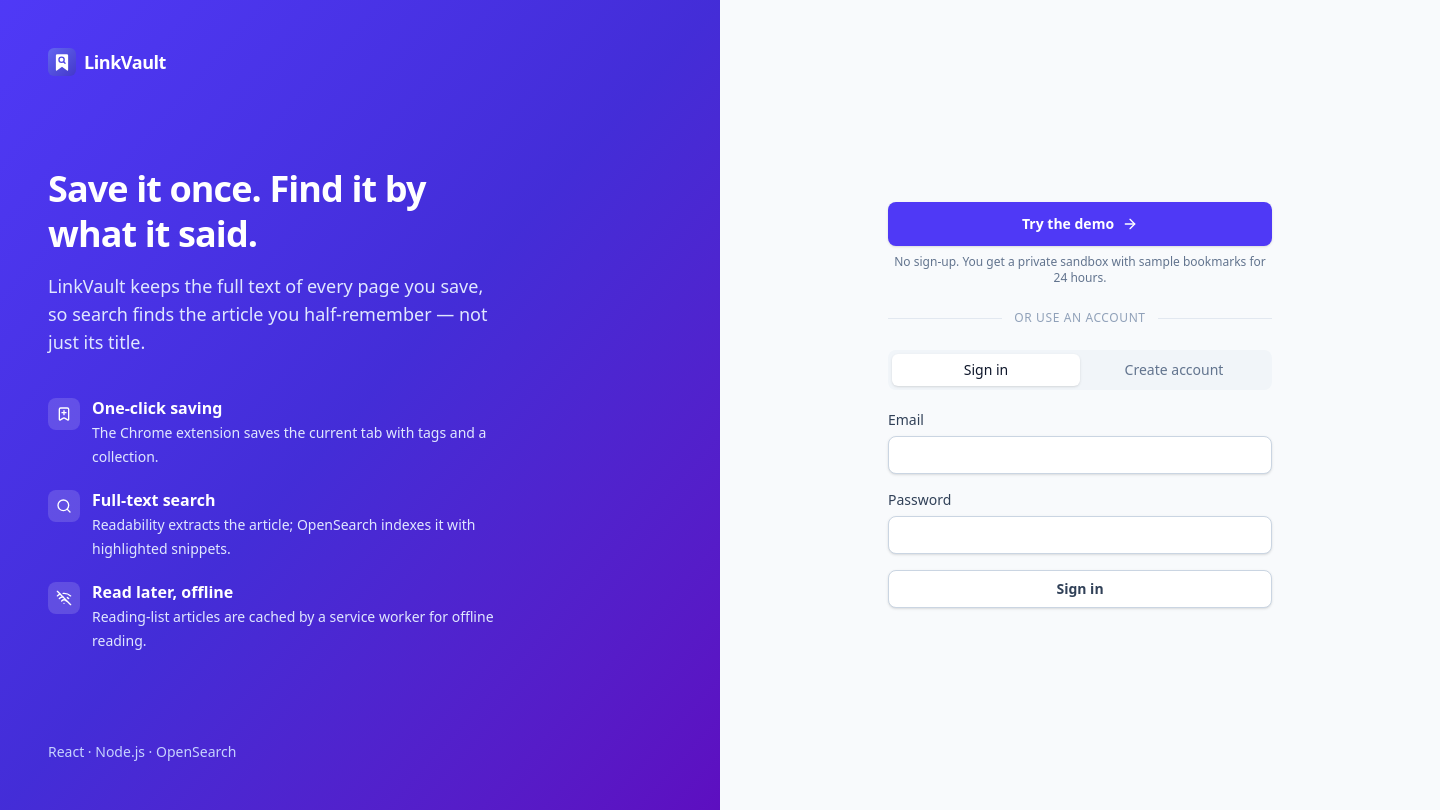
Test: LoginPage › shows API validation errors next to fields
Click the tab "Create account" at (1174, 370), box [1080,354,1268,386]
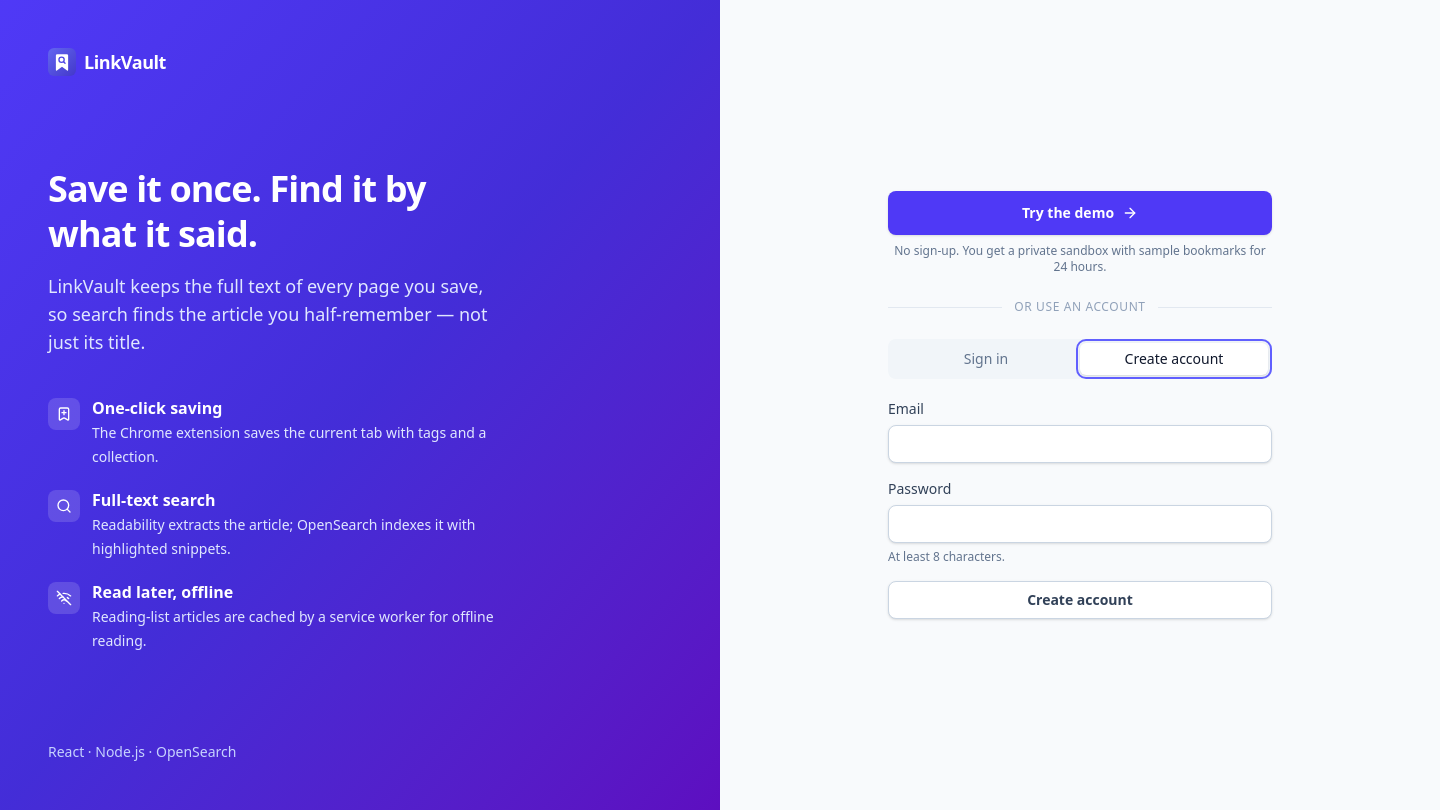
Type "ada@example.com" into the field labelled "Email" at (1080, 444), box [888,425,1272,463]
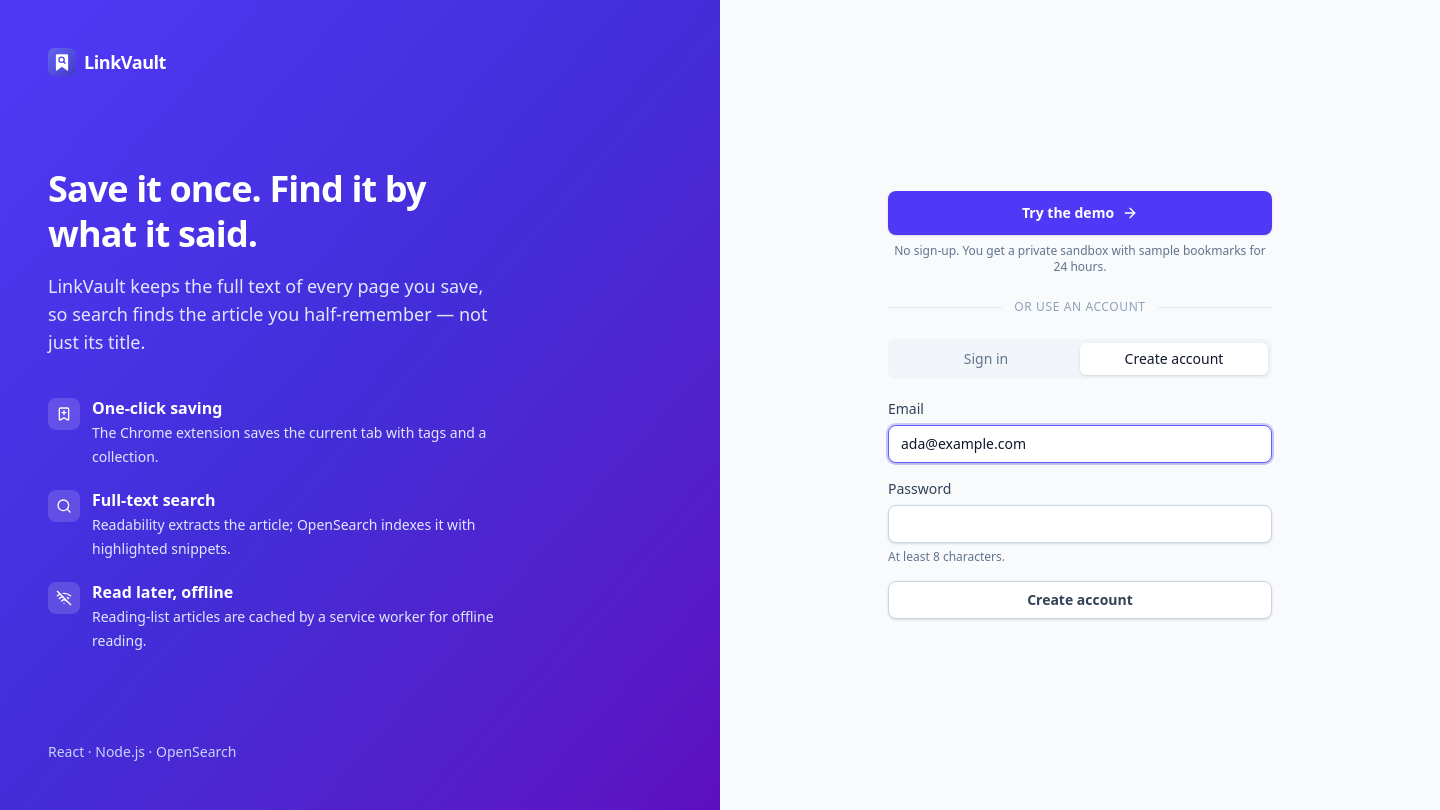
Type "short" into the password field labelled "Password" at (1080, 524), box [888,505,1272,543]
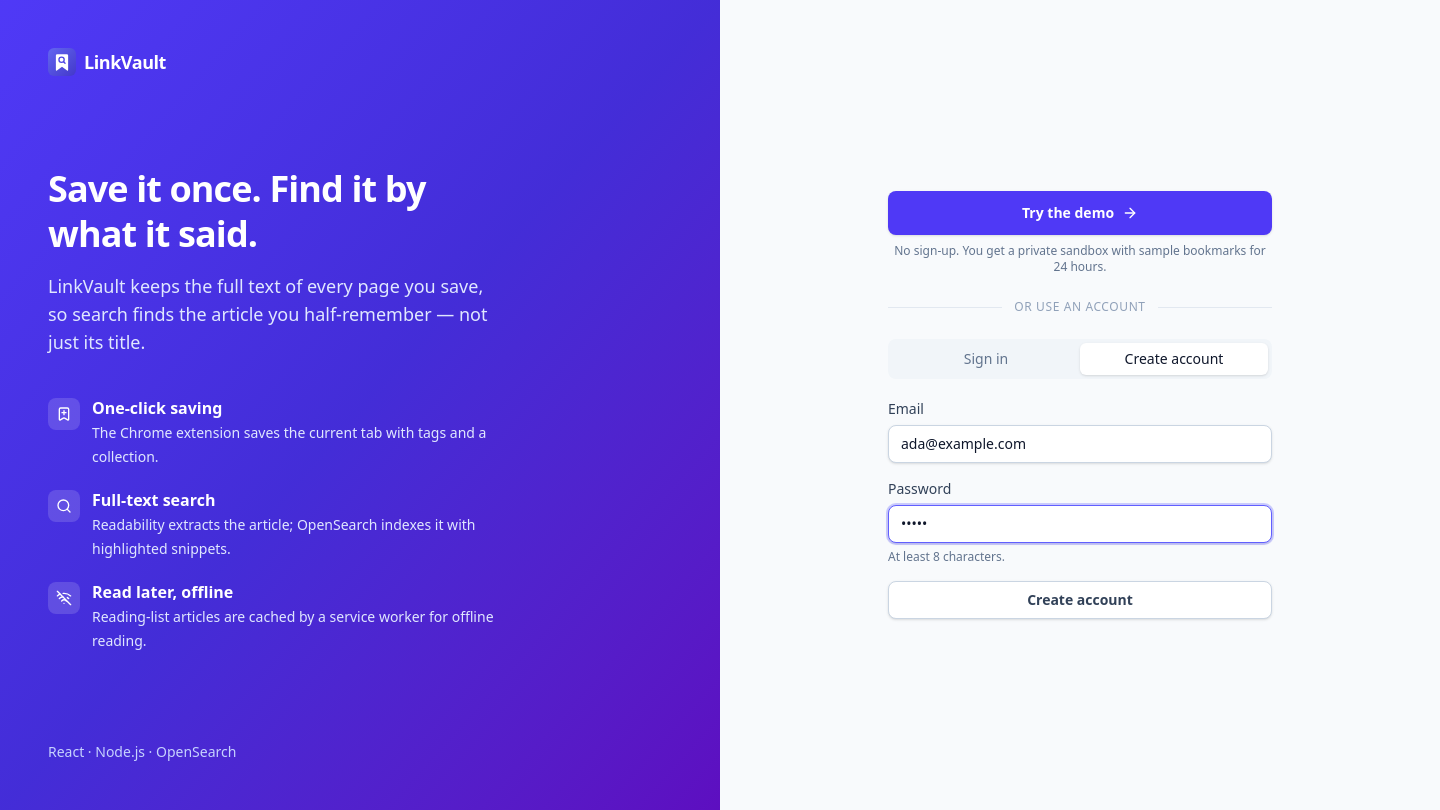
Click the button "Create account" at (1080, 600), box [888,581,1272,619]
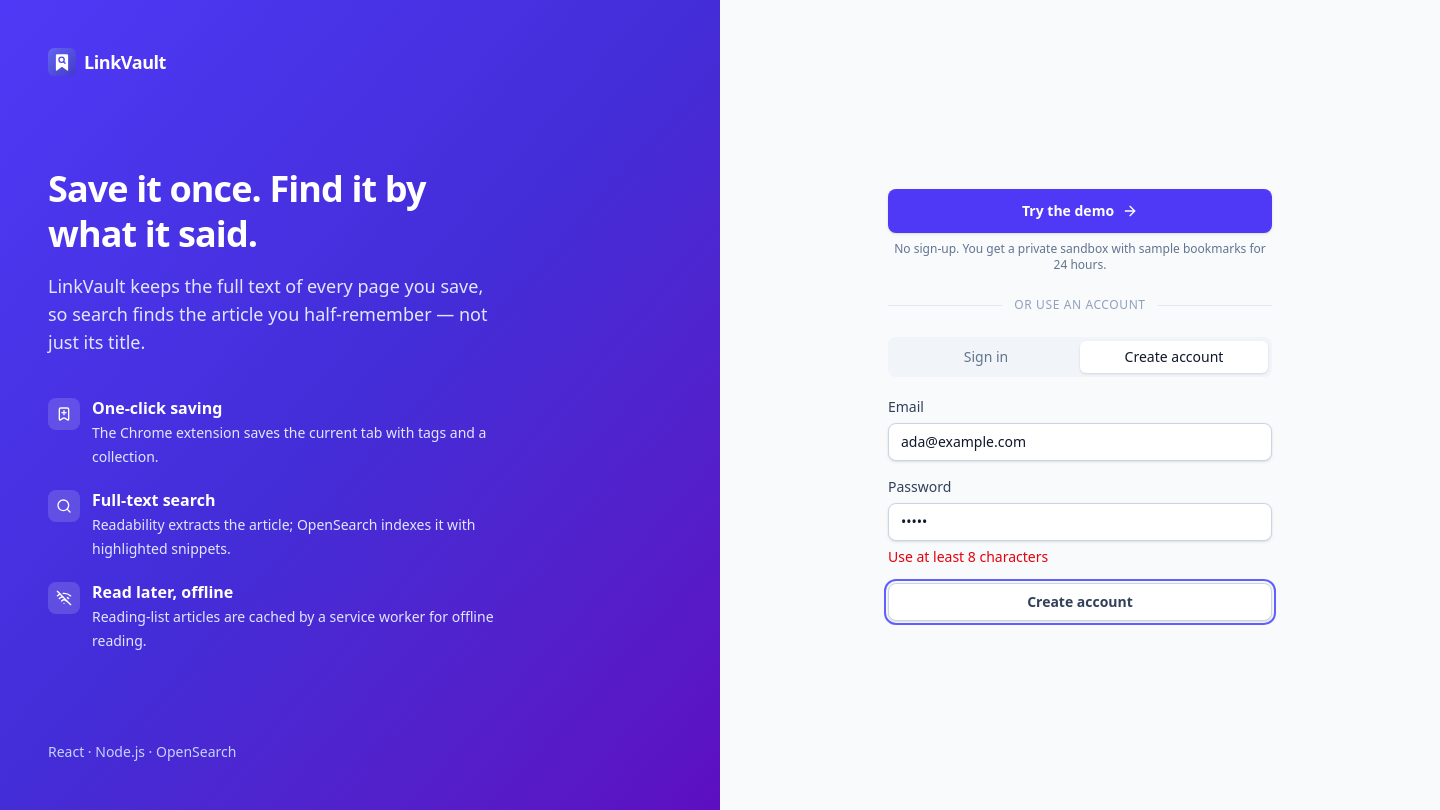
Result: the text "Use at least 8 characters" is shown at [888,547,1048,566]
Type "-but-longer" into the password field labelled "Password" at (1080, 522), box [888,503,1272,541]
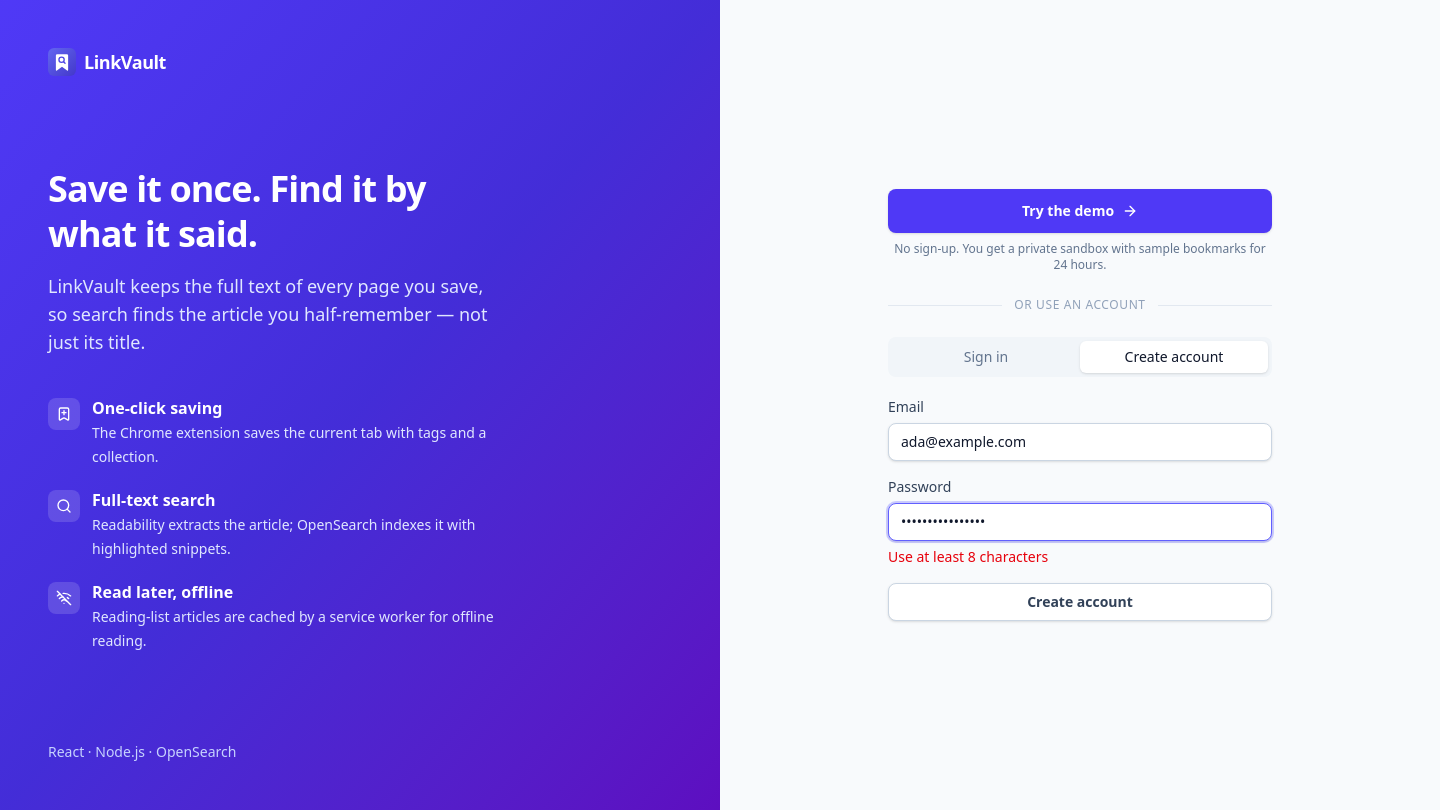
Click the button "Create account" at (1080, 602), box [888,583,1272,621]
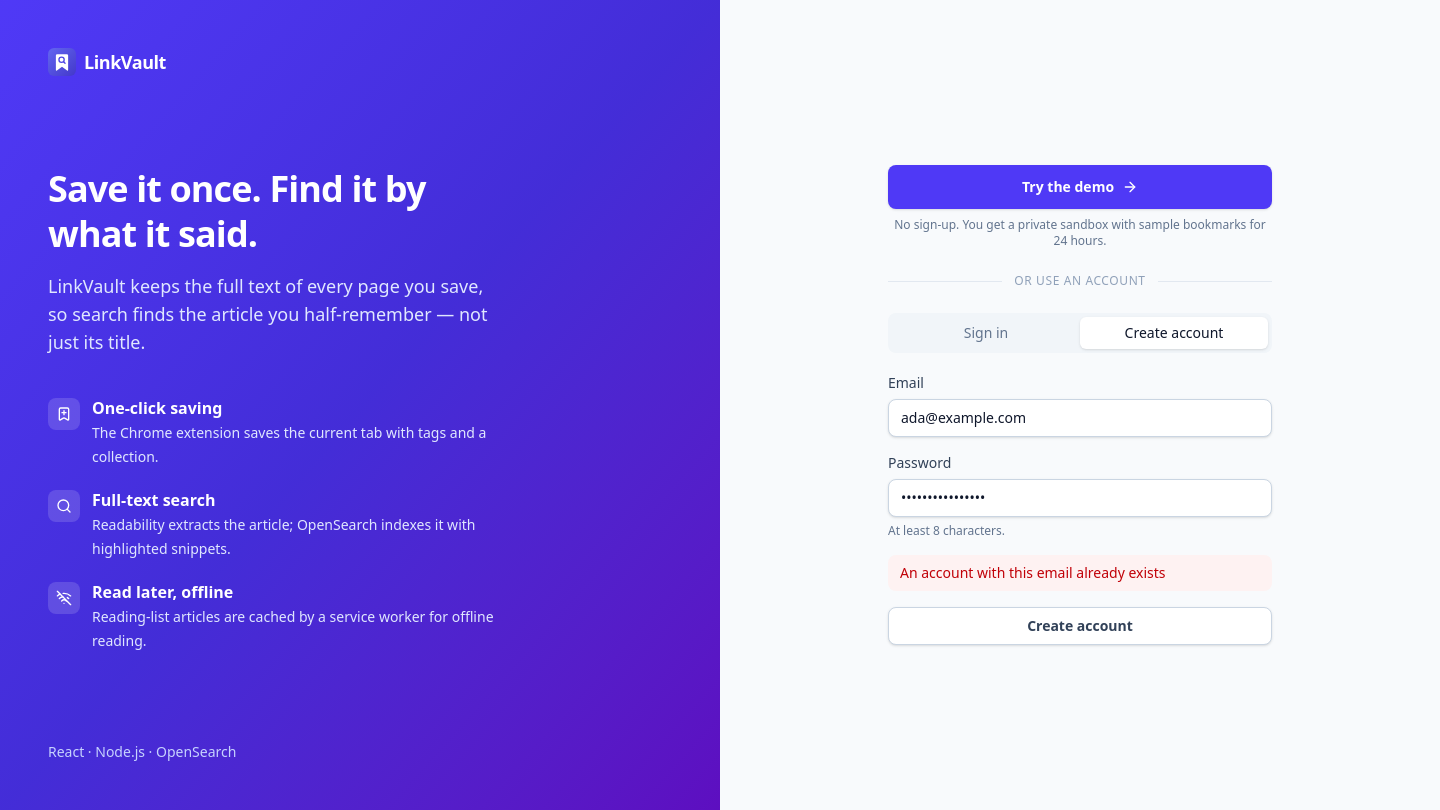
Result: the message shows "already exists" at [900,563,1166,582]
